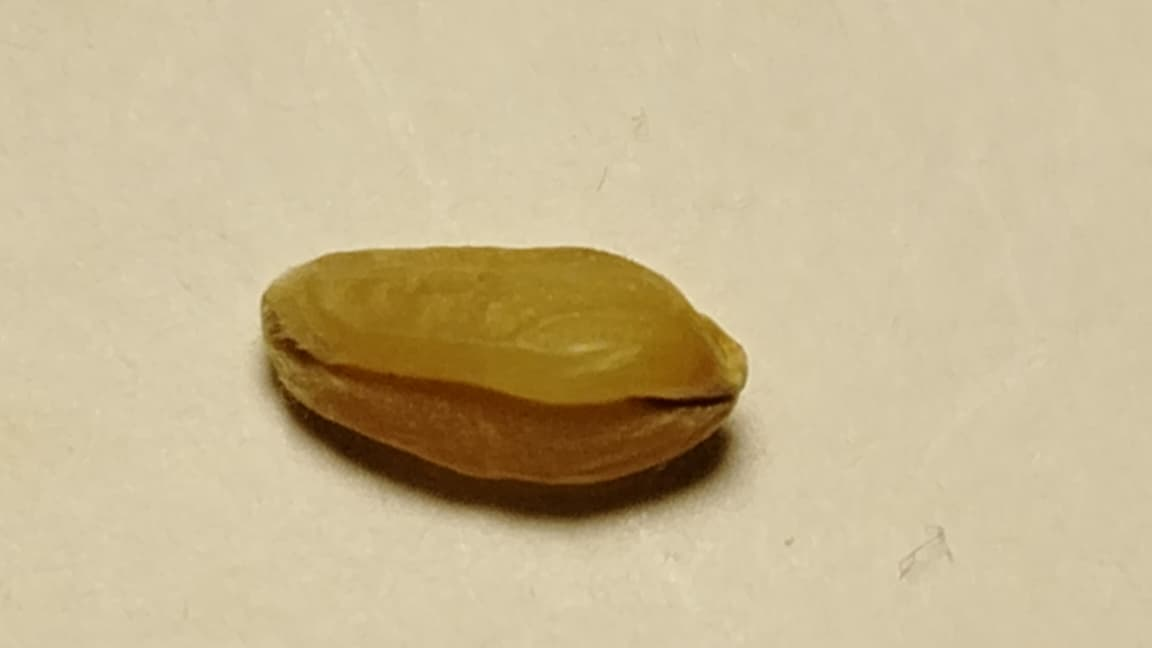healthy: (261, 245, 746, 491)
